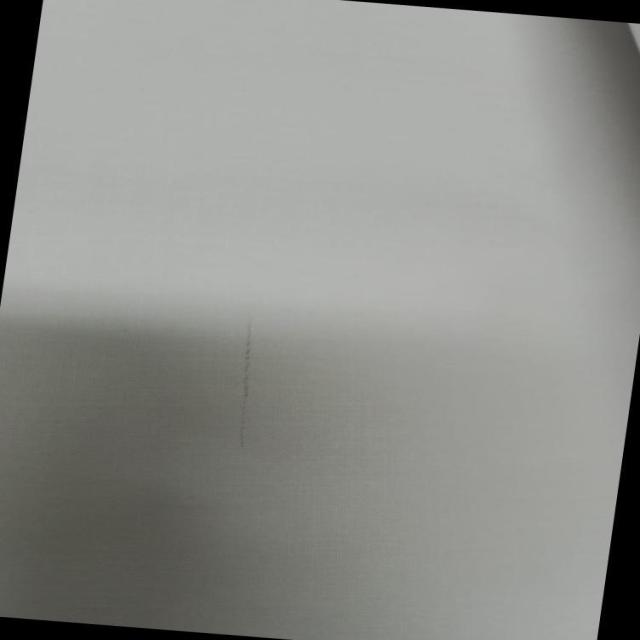contamination: (210, 300, 283, 468)
